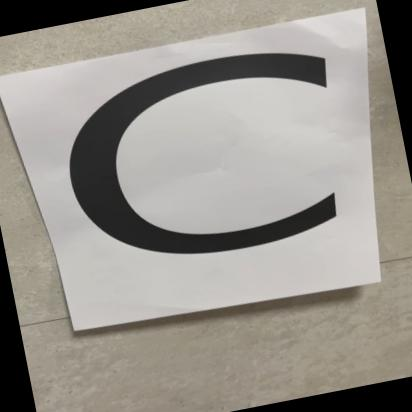seat: (0, 20, 376, 349), (24, 19, 372, 332)
